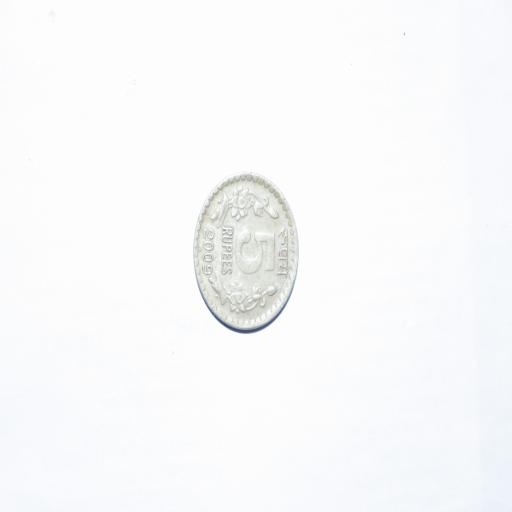rupee5: (191, 171, 300, 334)
